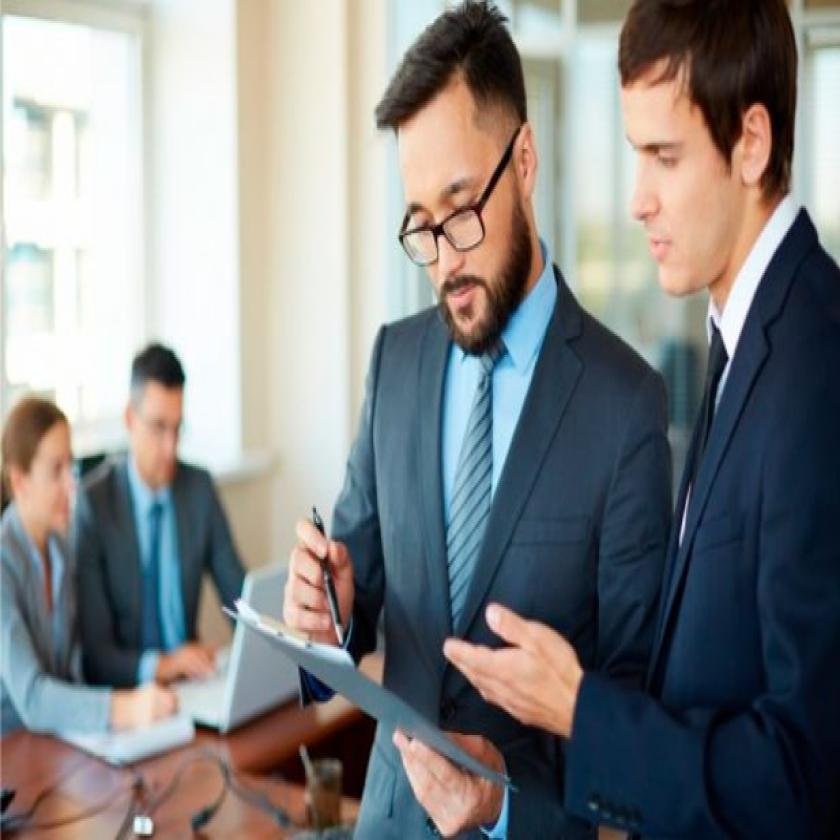Sin_casco: (608, 0, 808, 306), (380, 3, 535, 368), (2, 389, 81, 541), (118, 349, 189, 498)
